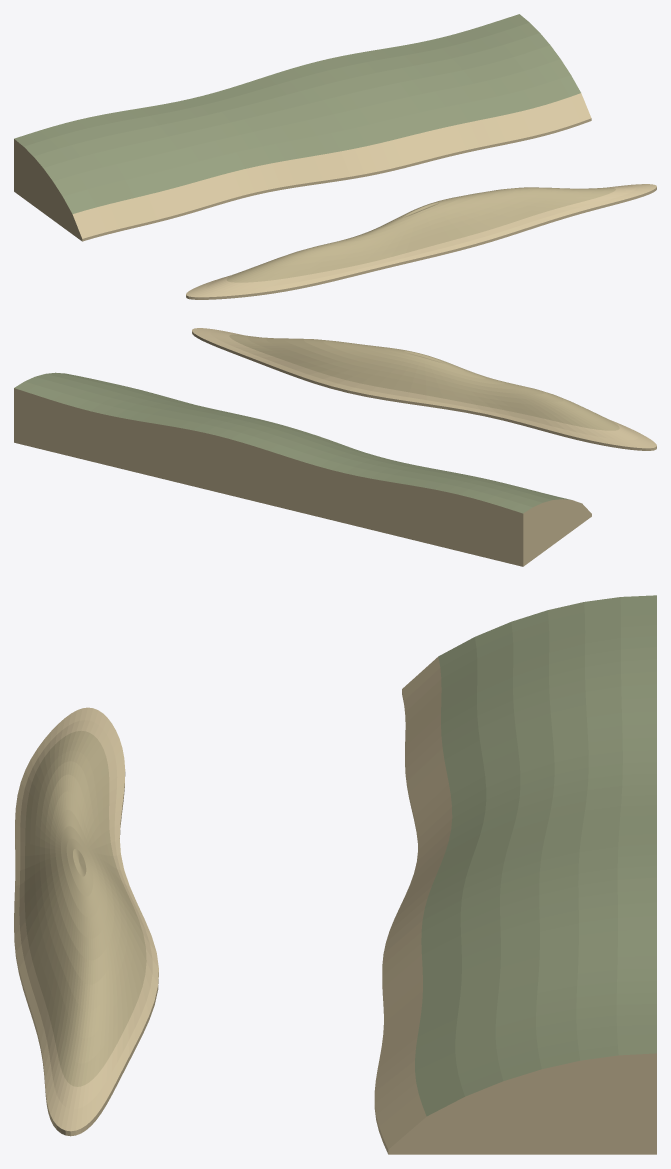
The model's file is barrier-island.glb.
3 renders of one model, top to bottom at view 1: azimuth 30°, elevation 25°; view 2: azimuth 150°, elevation 25°; view 3: azimuth 270°, elevation 25°, orthographic. The views are drawn at different scales.
Parts seen in each view (by area): view 1: Separate mainland coast teaching crop, Long detached offshore sand barrier; view 2: Separate mainland coast teaching crop, Long detached offshore sand barrier; view 3: Separate mainland coast teaching crop, Long detached offshore sand barrier.
Part boxes in pixels (bbox=[...]): Separate mainland coast teaching crop: bbox=[14, 14, 591, 241]; Long detached offshore sand barrier: bbox=[186, 184, 656, 299]; Separate mainland coast teaching crop: bbox=[14, 372, 591, 566]; Long detached offshore sand barrier: bbox=[192, 328, 656, 450]; Separate mainland coast teaching crop: bbox=[374, 595, 656, 1154]; Long detached offshore sand barrier: bbox=[14, 707, 158, 1136].
Size of the model in its own units: 20 by 2.12 by 11.8.
